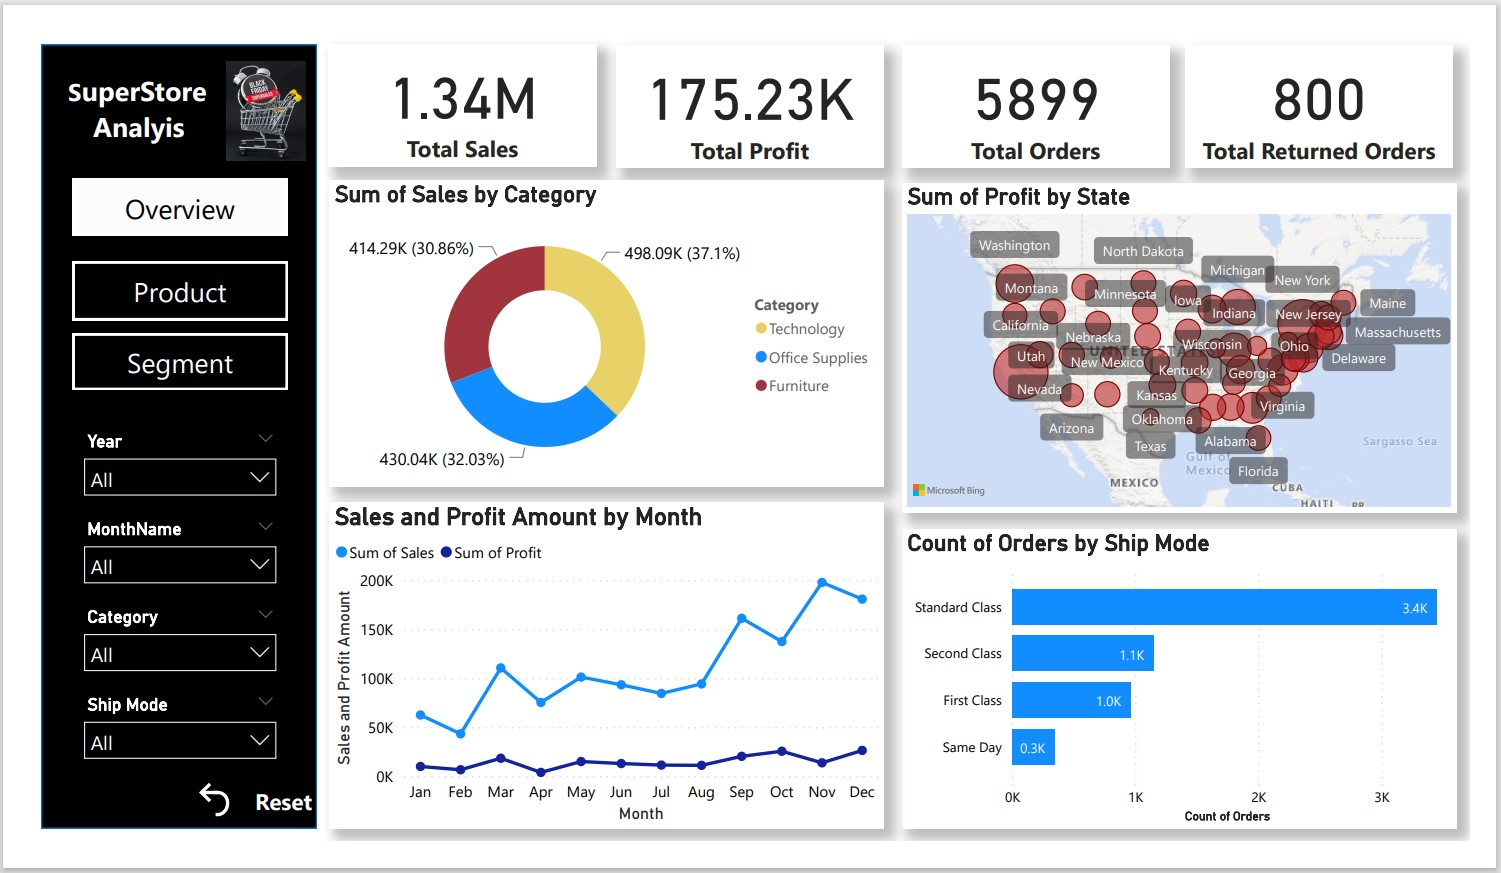

What the dashboard file says about the page in this screenshot:
{"tool":"powerbi","page":{"name":"Overview","canvas":[1280,720],"ordinal":0},"visuals":[{"type":"shape","title":"SUPERSTORE","box":[9.8,12.2,245.7,696.8],"z":0},{"type":"textbox","box":[29.3,30.6,135.7,79.5],"z":1000},{"type":"image","box":[165,22,90.5,97.8],"z":2000},{"type":"actionButton","box":[37.9,130.8,190.7,51.3],"z":3000},{"type":"actionButton","box":[37.9,268.9,190.7,50.1],"z":4000},{"type":"actionButton","box":[37.9,205.4,190.7,51.3],"z":5000},{"type":"slicer","fields":{"Values":["Orders.Year"]},"box":[37.9,349.6,190.7,68.5],"z":6000},{"type":"slicer","fields":{"Values":["Orders.MonthName"]},"box":[37.9,427.8,190.7,78.2],"z":7000},{"type":"slicer","fields":{"Values":["Orders.Category"]},"box":[37.9,506.1,190.7,78.2],"z":8000},{"type":"slicer","fields":{"Values":["Orders.Ship Mode"]},"box":[37.9,584.3,190.7,78.2],"z":9000},{"type":"card","fields":{"Values":["Orders.Total Sales"]},"box":[265.3,12.2,238.4,108.8],"z":10000},{"type":"card","fields":{"Values":["Orders.Total Profit"]},"box":[520.7,13.4,238.4,108.8],"z":11000},{"type":"card","fields":{"Values":["CountNonNull(Orders.Order ID)"]},"box":[775,13.4,238.4,108.8],"z":12000},{"type":"card","fields":{"Values":["CountNonNull(Returns.Order ID)"]},"box":[1026.8,13.4,238.4,108.8],"z":13000},{"type":"donutChart","fields":{"Category":["Orders.Category"],"Y":["Sum(Orders.Sales)"]},"box":[266.2,132.5,492.5,272.5],"z":14000},{"type":"map","fields":{"Category":["Orders.State"],"Size":["Sum(Orders.Profit)"]},"box":[775,135,492.5,292.5],"z":15000},{"type":"barChart","title":"Count of Orders by Ship Mode","fields":{"Category":["Orders.Ship Mode"],"Y":["CountNonNull(Orders.Order ID)"]},"box":[775,442.5,492.5,266.2],"z":16000},{"type":"lineChart","title":"Sales and Profit Amount by Month","fields":{"Category":["Orders.MonthName"],"Y":["Sum(Orders.Sales)","Sum(Orders.Profit)"]},"box":[266.2,418.8,492.5,290],"z":17000},{"type":"actionButton","title":"Reset","box":[144.2,662.5,111.2,40.3],"z":20000}]}

Visuals, with their boxes on the page's 1280x720 design canvas (x1, y1, x2, y2). These are canvas units, not pixel positions in the 1501x873 screenshot, which may show the page scaled, cropped or inside an application window:
"SUPERSTORE" shape: {"left": 10, "top": 12, "right": 256, "bottom": 709}
textbox: {"left": 29, "top": 31, "right": 165, "bottom": 110}
image: {"left": 165, "top": 22, "right": 256, "bottom": 120}
actionButton: {"left": 38, "top": 131, "right": 229, "bottom": 182}
actionButton: {"left": 38, "top": 269, "right": 229, "bottom": 319}
actionButton: {"left": 38, "top": 205, "right": 229, "bottom": 257}
slicer - Orders.Year: {"left": 38, "top": 350, "right": 229, "bottom": 418}
slicer - Orders.MonthName: {"left": 38, "top": 428, "right": 229, "bottom": 506}
slicer - Orders.Category: {"left": 38, "top": 506, "right": 229, "bottom": 584}
slicer - Orders.Ship Mode: {"left": 38, "top": 584, "right": 229, "bottom": 662}
card - Orders.Total Sales: {"left": 265, "top": 12, "right": 504, "bottom": 121}
card - Orders.Total Profit: {"left": 521, "top": 13, "right": 759, "bottom": 122}
card - CountNonNull(Orders.Order ID): {"left": 775, "top": 13, "right": 1013, "bottom": 122}
card - CountNonNull(Returns.Order ID): {"left": 1027, "top": 13, "right": 1265, "bottom": 122}
donutChart - Orders.Category x Sum(Orders.Sales): {"left": 266, "top": 132, "right": 759, "bottom": 405}
map - Orders.State x Sum(Orders.Profit): {"left": 775, "top": 135, "right": 1268, "bottom": 428}
"Count of Orders by Ship Mode" barChart: {"left": 775, "top": 442, "right": 1268, "bottom": 709}
"Sales and Profit Amount by Month" lineChart: {"left": 266, "top": 419, "right": 759, "bottom": 709}
"Reset" actionButton: {"left": 144, "top": 662, "right": 255, "bottom": 703}
